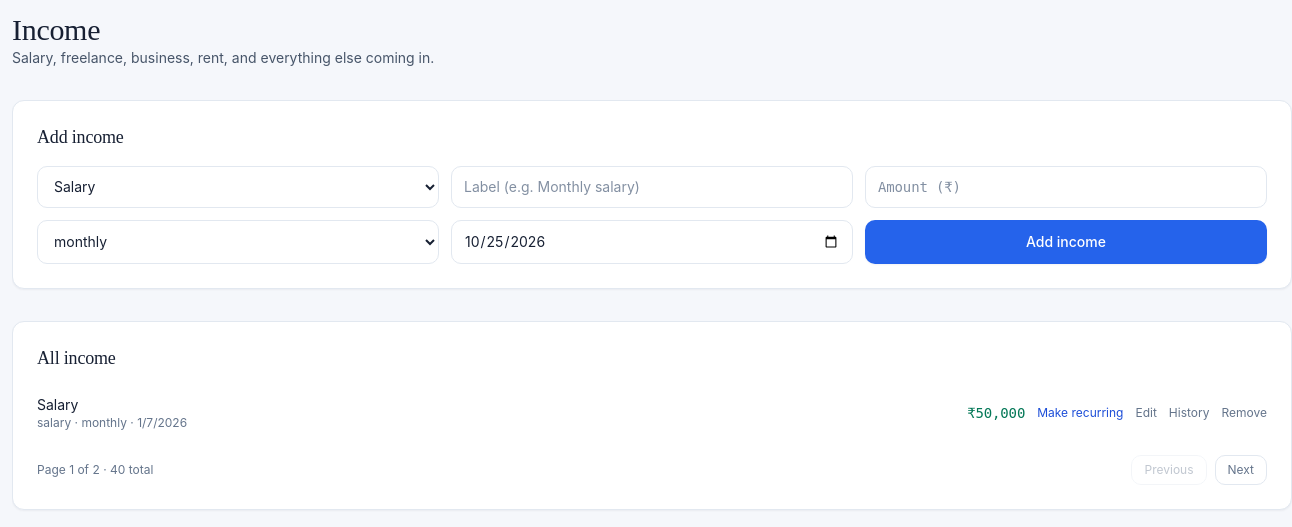
IncomePage pagination (new, audit item #16) › fetches the next page when Next is clicked
Click the button "Next": (1241, 470) 1214,454 -> 1267,484
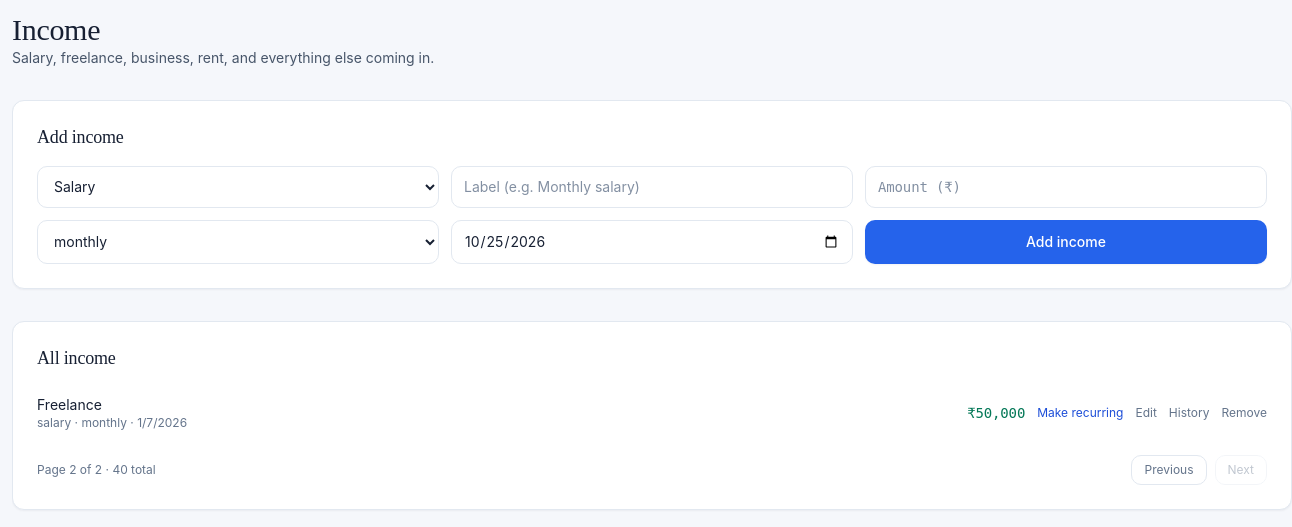
Now the button "Next" is disabled, box 1214,454 -> 1267,484
